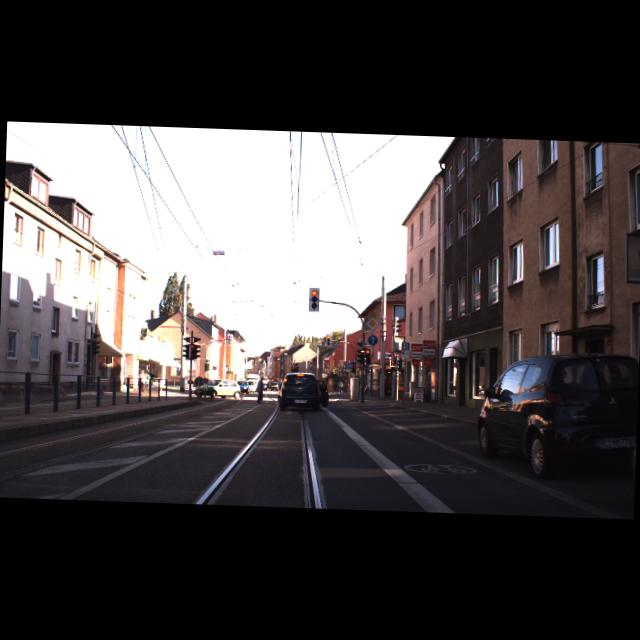mandatory: (368, 334, 378, 346)
other: (365, 316, 379, 330)
